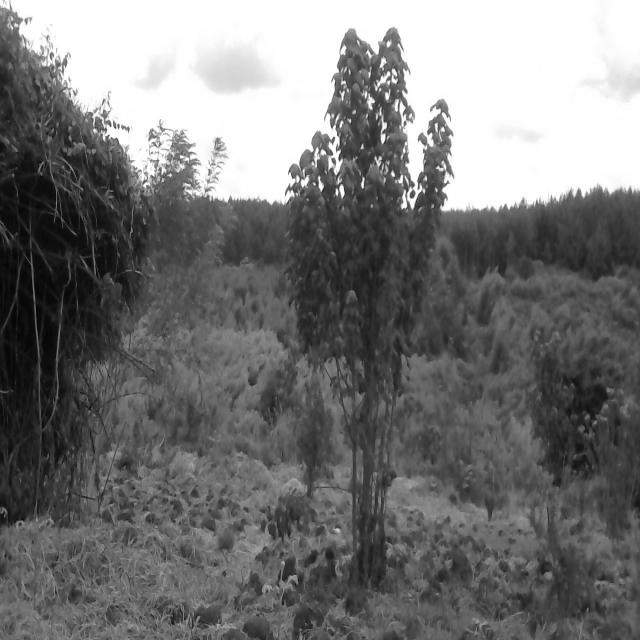Dombeya torrida: (273, 2, 460, 590)
